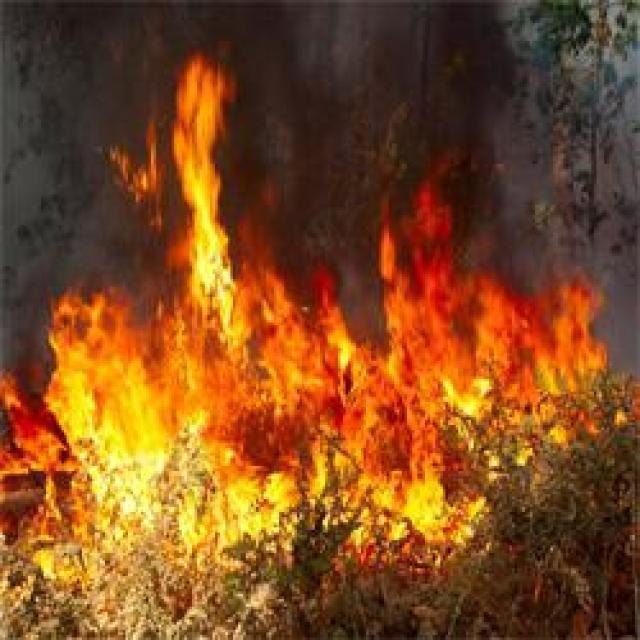Fire: (61, 307, 593, 440), (182, 45, 238, 308), (219, 455, 293, 529), (378, 464, 459, 526)
